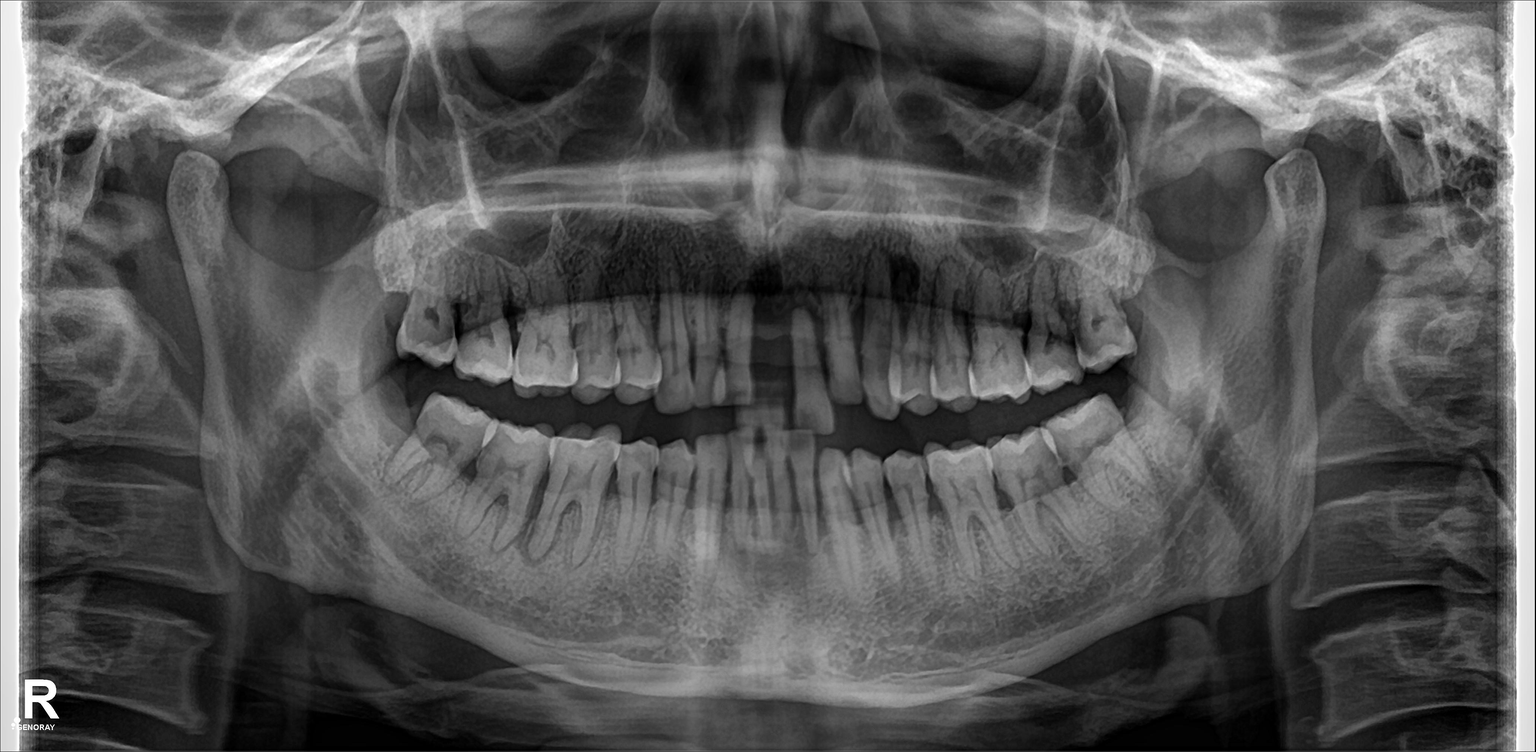Impacted Third Molar: (1065, 417, 1146, 514), (402, 402, 481, 490)
